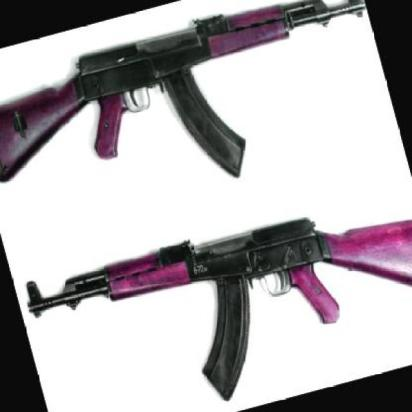Gun: (0, 0, 389, 178)
